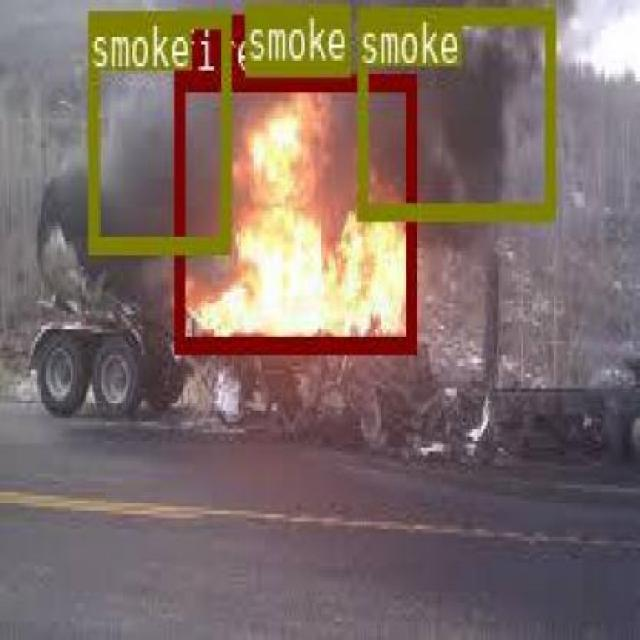fire: (173, 73, 413, 349)
smoke: (356, 3, 553, 216), (86, 8, 228, 250), (245, 1, 346, 70)
